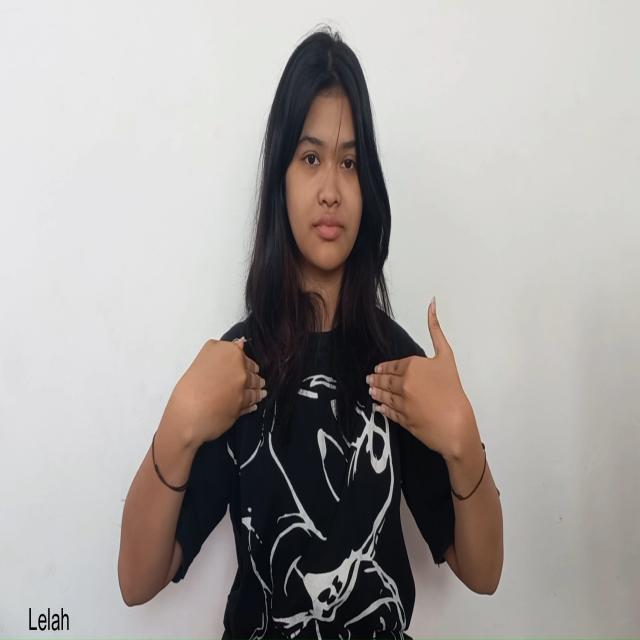Lelah -BISINDO-: (179, 294, 473, 470)
